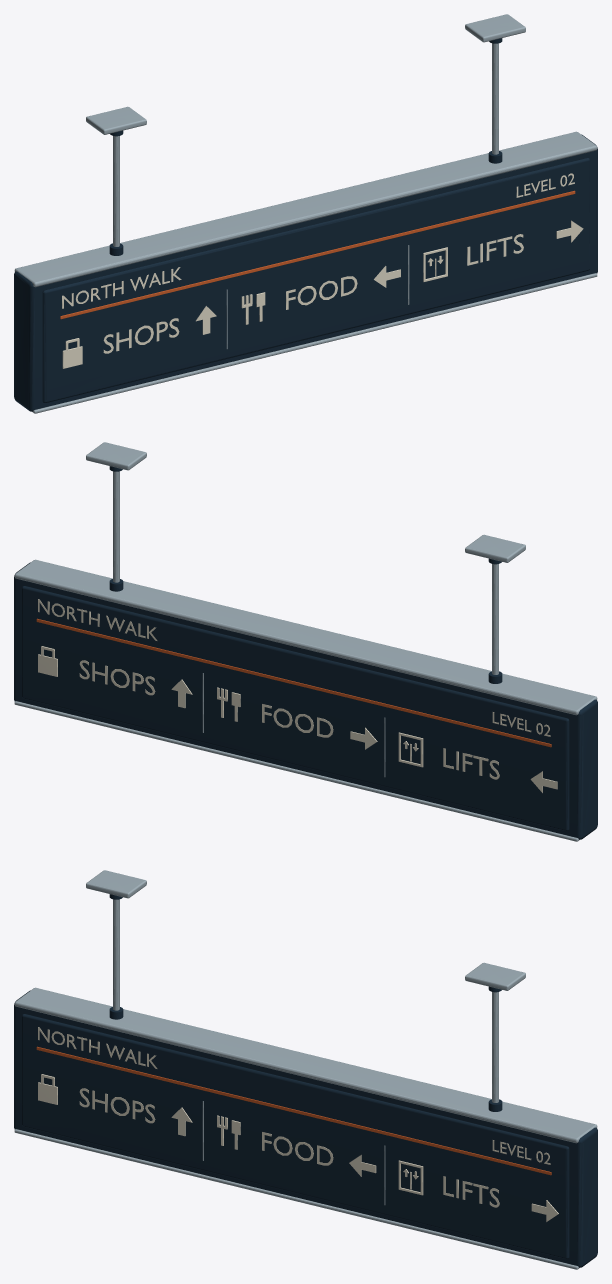
3 renders of one model, top to bottom at view 1: azimuth 30°, elevation 25°; view 2: azimuth 150°, elevation 25°; view 3: azimuth 330°, elevation 25°, orthographic.
Visible parts, largest first — view 1: FrontFace, Housing, FrontText, HangerRight, HangerLeft, FrontIcons, FrontArrows; view 2: RearFace, Housing, RearText, HangerRight, HangerLeft, RearIcons, RearArrows; view 3: FrontFace, Housing, FrontText, HangerLeft, HangerRight, FrontIcons, FrontArrows.
Part boxes in pixels (<box>): FrontFace: <box>42,158,589,402</box>; Housing: <box>14,131,597,413</box>; FrontText: <box>62,173,574,353</box>; HangerRight: <box>465,14,525,163</box>; HangerLeft: <box>86,106,146,255</box>; FrontIcons: <box>62,247,447,368</box>; FrontArrows: <box>196,220,583,334</box>; RearFace: <box>22,586,569,830</box>; Housing: <box>14,559,597,841</box>; RearText: <box>38,599,550,779</box>; HangerRight: <box>86,442,146,591</box>; HangerLeft: <box>465,534,525,683</box>; RearIcons: <box>38,646,423,767</box>; RearArrows: <box>171,679,557,792</box>; FrontFace: <box>22,1014,569,1258</box>; Housing: <box>14,987,597,1269</box>; FrontText: <box>38,1027,550,1207</box>; HangerLeft: <box>86,870,146,1019</box>; HangerRight: <box>465,962,525,1111</box>; FrontIcons: <box>38,1074,423,1195</box>; FrontArrows: <box>171,1107,558,1221</box>.
Bounding box in the file's own units: 2.1 × 0.94 × 0.162.
